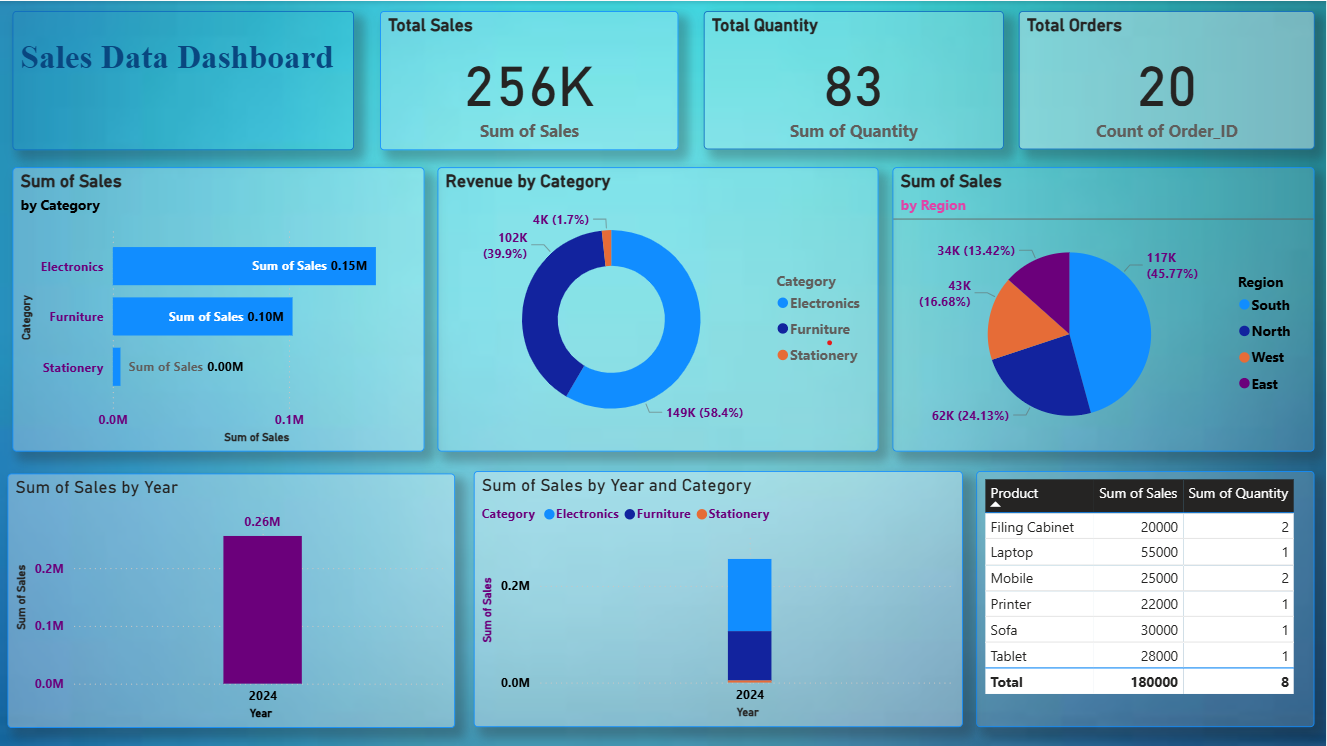

The dashboard page shown, as its layout file describes it:
{"tool":"powerbi","page":{"name":"Page 1","canvas":[1280,720],"ordinal":0},"visuals":[{"type":"textbox","box":[12.3,9.6,329.3,134.5],"z":0},{"type":"card","title":"Total Sales","fields":{"Values":["Sum(sales_data.Sales)"]},"box":[366.4,9.6,288.2,134.5],"z":1000},{"type":"card","title":"Total Quantity","fields":{"Values":["Sum(sales_data.Quantity)"]},"box":[679.2,9.7,289.5,133.9],"z":2000},{"type":"card","title":"Total Orders","fields":{"Values":["CountNonNull(sales_data.Order_ID)"]},"box":[983.2,9.7,285.9,133.9],"z":3000},{"type":"clusteredBarChart","fields":{"Category":["sales_data.Category"],"Y":["Sum(sales_data.Sales)"]},"box":[12.3,160.5,397.9,274.4],"z":4000},{"type":"pieChart","fields":{"Category":["sales_data.Region"],"Y":["Sum(sales_data.Sales)"]},"box":[861.8,160.5,407.5,274.4],"z":5000},{"type":"donutChart","title":"Revenue by Category","fields":{"Category":["sales_data.Category"],"Y":["Sum(sales_data.Sales)"]},"box":[422.6,160.5,425.4,274.4],"z":6000},{"type":"tableEx","fields":{"Values":["sales_data.Product","Sum(sales_data.Sales)","Sum(sales_data.Quantity)"]},"box":[942.7,454.2,326.6,247],"z":7000},{"type":"clusteredColumnChart","fields":{"Category":["sales_data.Date.Variation.Date Hierarchy.Year","sales_data.Date.Variation.Date Hierarchy.Quarter","sales_data.Date.Variation.Date Hierarchy.Month","sales_data.Date.Variation.Date Hierarchy.Day"],"Y":["Sum(sales_data.Sales)"]},"box":[6.9,455.6,432.2,245.6],"z":8000},{"type":"ribbonChart","fields":{"Category":["sales_data.Date.Variation.Date Hierarchy.Year","sales_data.Date.Variation.Date Hierarchy.Quarter","sales_data.Date.Variation.Date Hierarchy.Month","sales_data.Date.Variation.Date Hierarchy.Day"],"Series":["sales_data.Category"],"Y":["Sum(sales_data.Sales)"]},"box":[456.9,454.2,472,247],"z":9000}]}

Visuals, with their boxes in screenshot pixels (x1, y1, x2, y2), scaled from the page's 1280x720 canvas onto the 1327x746 screenshot:
textbox: region(13, 10, 354, 149)
"Total Sales" card: region(380, 10, 679, 149)
"Total Quantity" card: region(704, 10, 1004, 149)
"Total Orders" card: region(1019, 10, 1316, 149)
clusteredBarChart - sales_data.Category x Sum(sales_data.Sales): region(13, 166, 425, 451)
pieChart - sales_data.Region x Sum(sales_data.Sales): region(893, 166, 1316, 451)
"Revenue by Category" donutChart: region(438, 166, 879, 451)
tableEx - sales_data.Product x Sum(sales_data.Sales): region(977, 471, 1316, 727)
clusteredColumnChart - sales_data.Date.Variation.Date Hierarchy.Year x sales_data.Date.Variation.Date Hierarchy.Quarter: region(7, 472, 455, 727)
ribbonChart - sales_data.Date.Variation.Date Hierarchy.Year x sales_data.Date.Variation.Date Hierarchy.Quarter: region(474, 471, 963, 727)
